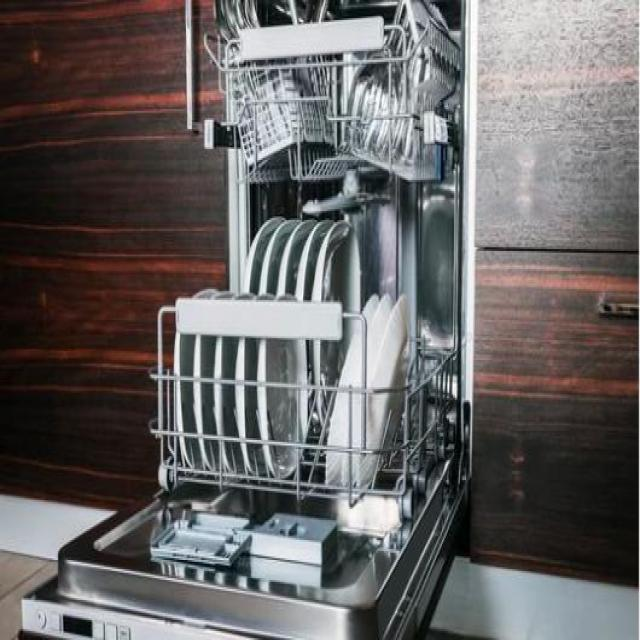dishwasher: (21, 0, 472, 638)
